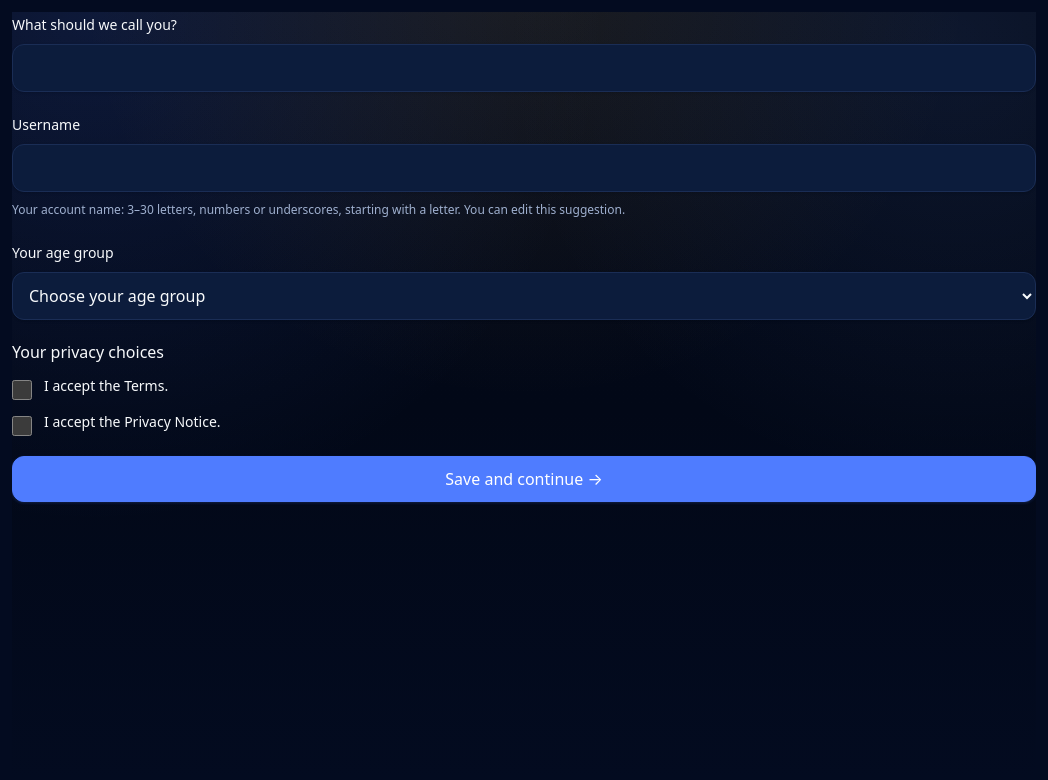
Test case: retains entered details and requires consent to be checked again after a failed save
Step 1. Type "Tosin" into the field labelled "What should we call you?" → (524,68), box [12,44,1036,92]
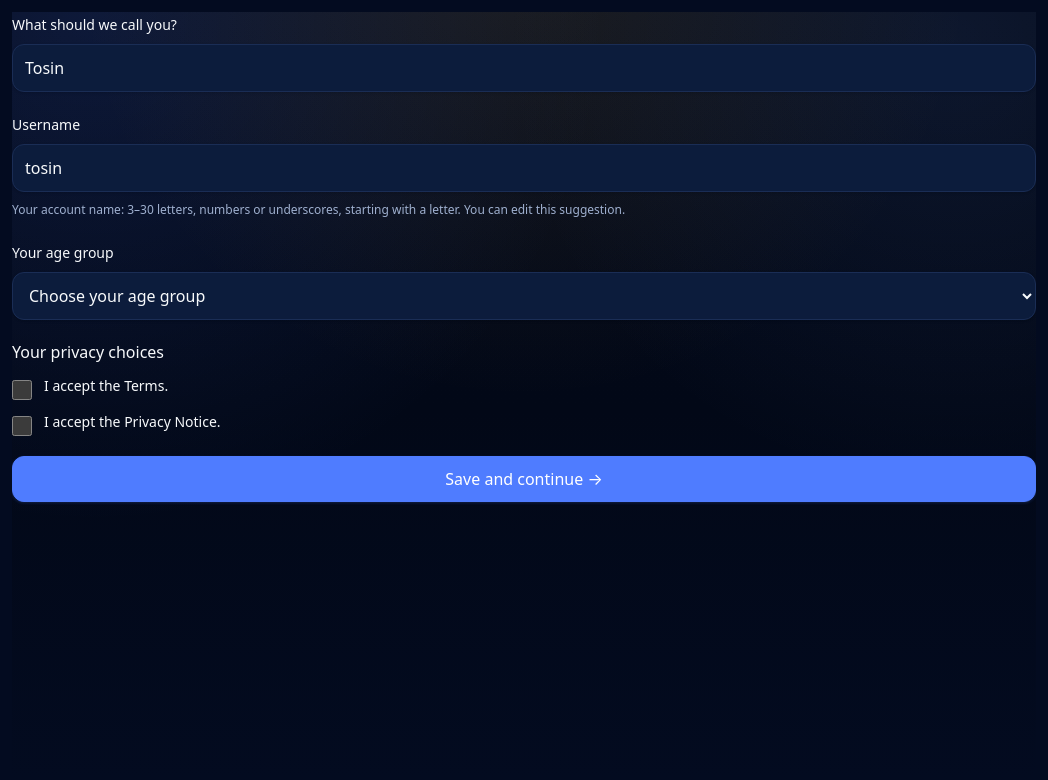
Step 2. Select "18–24" in the dropdown labelled "Your age group" → (524,296), box [12,272,1036,320]
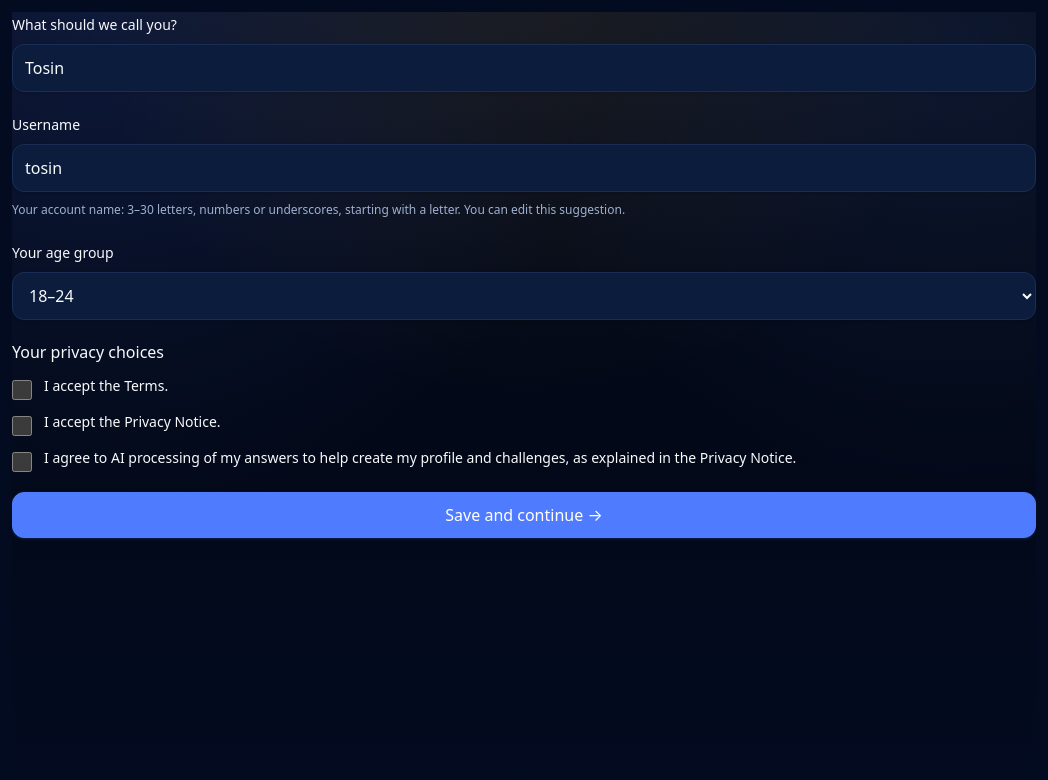
Step 3. Click the checkbox labelled "I accept the Terms ." → (22,390), box [12,380,32,400]
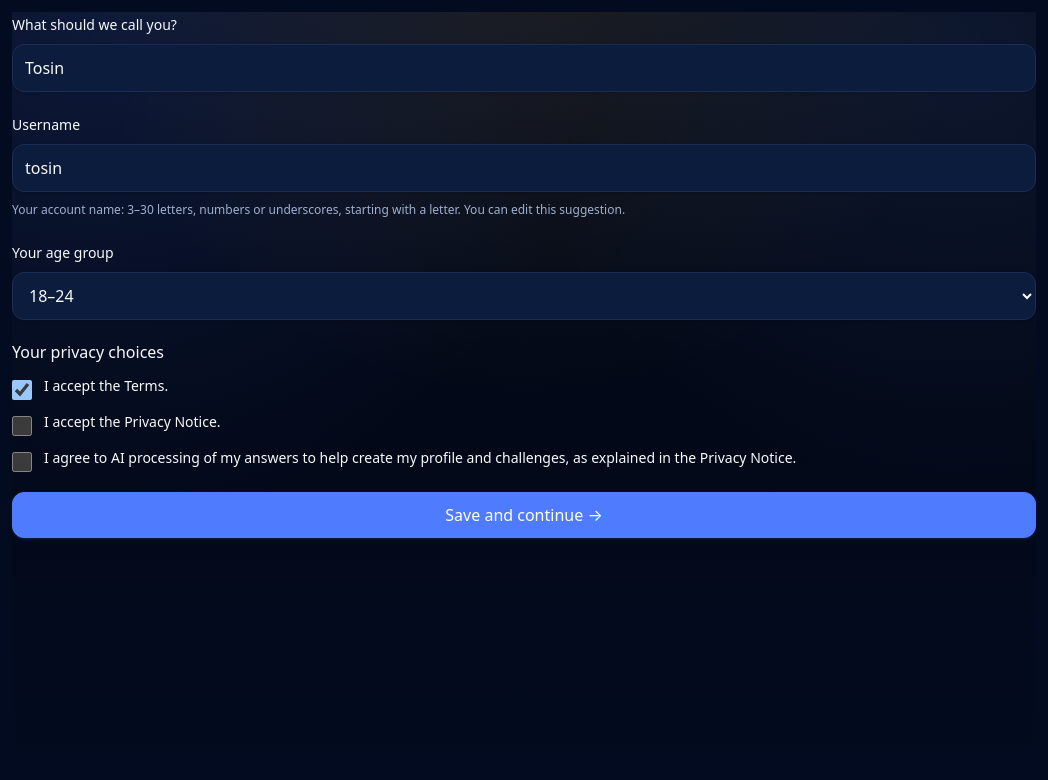
Step 4. Click the checkbox labelled "I accept the Privacy Notice ." → (22,426), box [12,416,32,436]
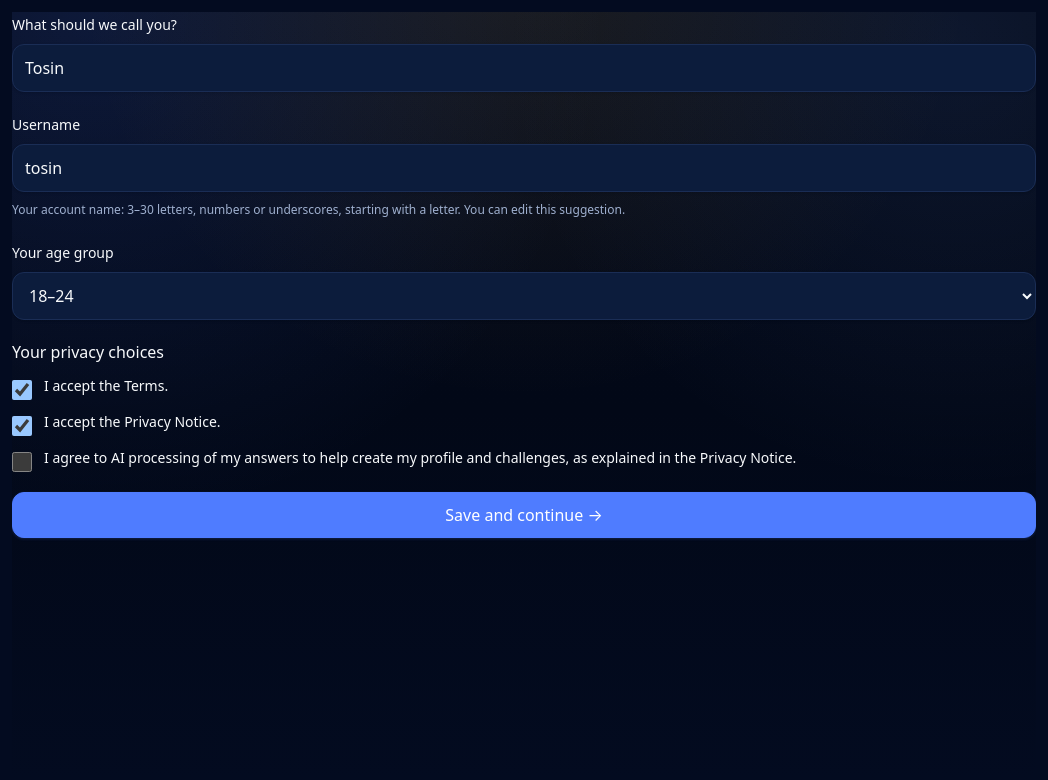
Step 5. Click the 3rd checkbox → (22,462), box [12,452,32,472]
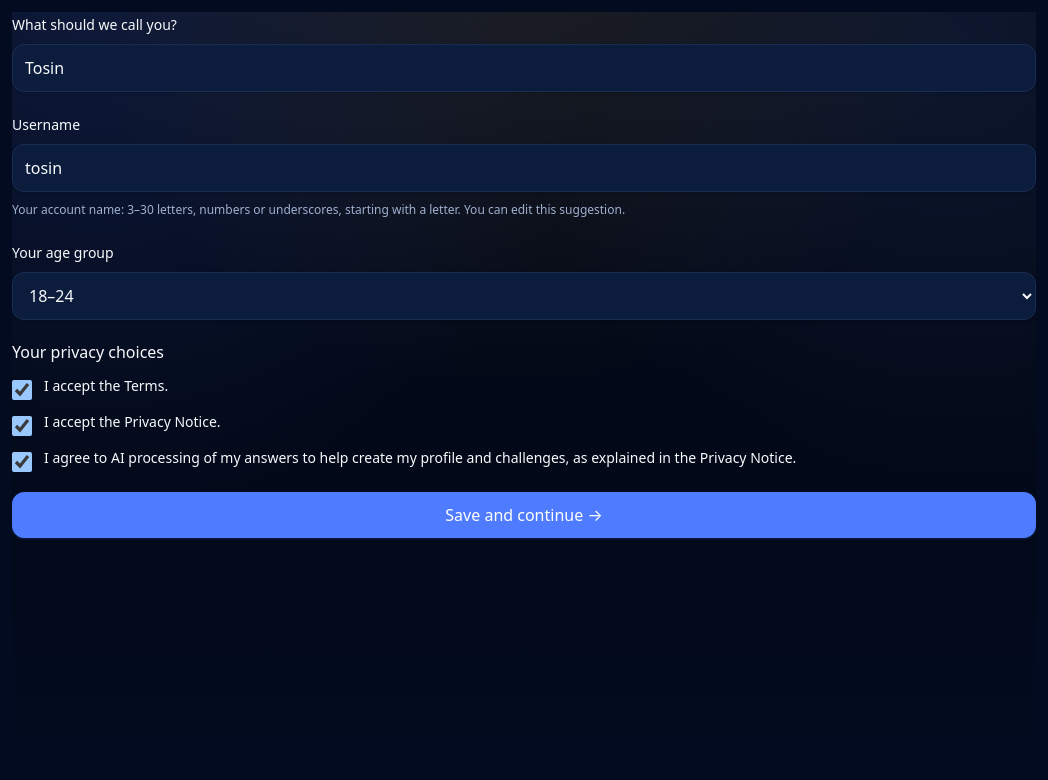
Step 6. Submit the form named "Save and continue →"
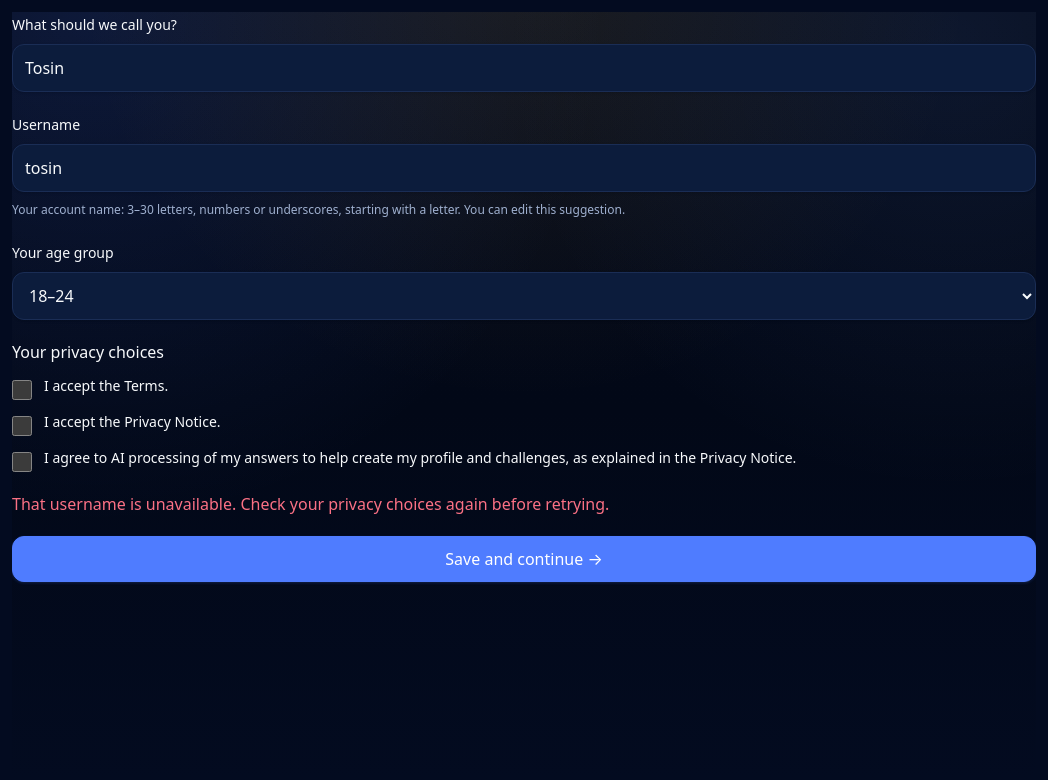
Expected: the checkbox labelled "I accept the Terms ." is not checked, [12,380,32,400]
Expected: the field labelled "Username" holds "tosin", [12,144,1036,192]
Expected: the message shows "unavailable", [12,493,236,515]
